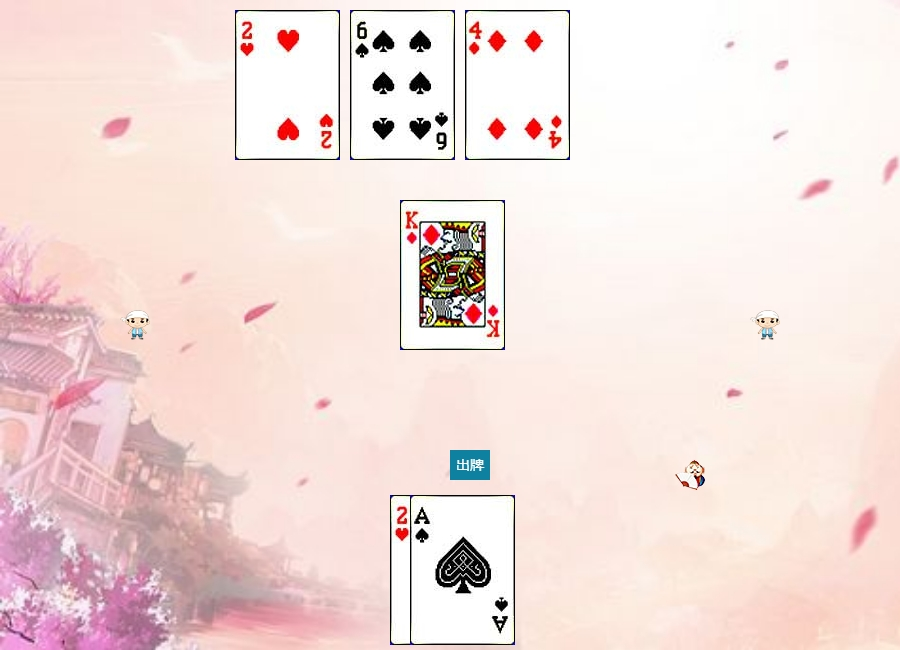13~1: (400, 200, 505, 350)
14~4: (410, 495, 515, 645)
15~3: (235, 10, 340, 160), (390, 495, 495, 645)
4~1: (465, 10, 570, 160)
6~4: (350, 10, 455, 160)
